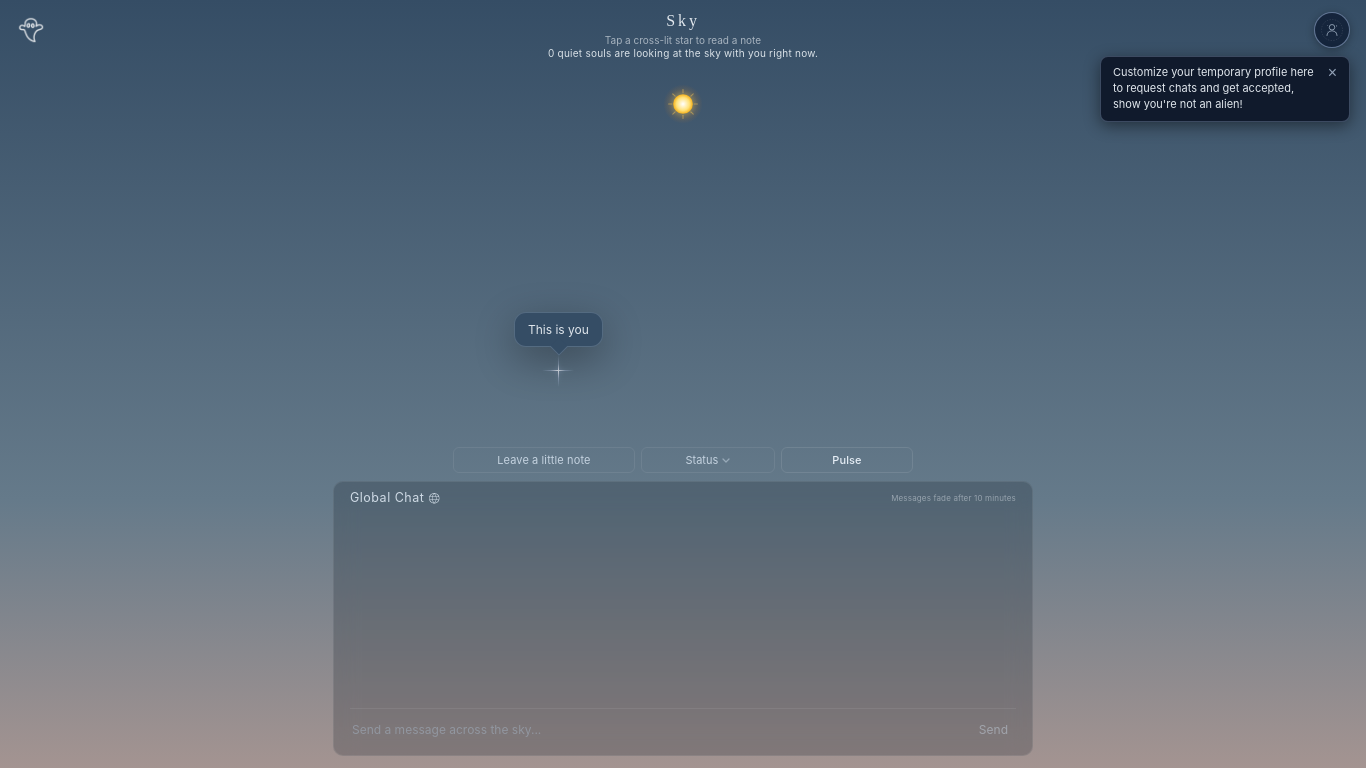
Test: Sky Temporary Profile & Mobile Layout Integration › default anonymous profile assigns soul<id> with unset age and gender
The image size is (1366, 768).
# Tap own star
Click the button named "Your star": [558, 371] box [536,349,580,393]
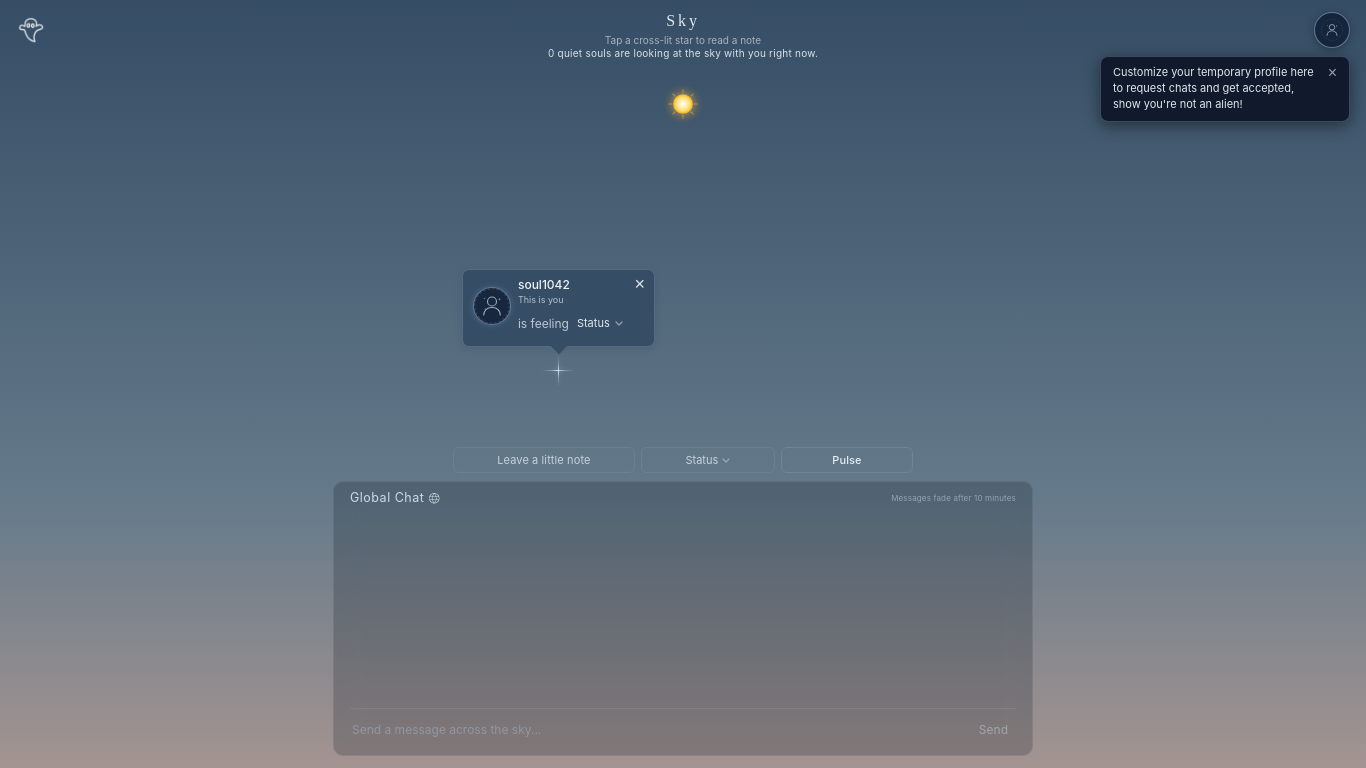
Expected: the dialog named "Your sky note" does not show "soul1042,", [462,269,655,347]
Expected: the dialog named "Your sky note" is shown, [462,269,655,347]
Expected: the element with class "sky-star-name-row" reads "soul1042", [518,277,570,292]
